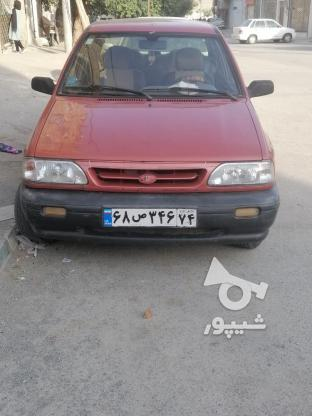car: (100, 208, 198, 227)
